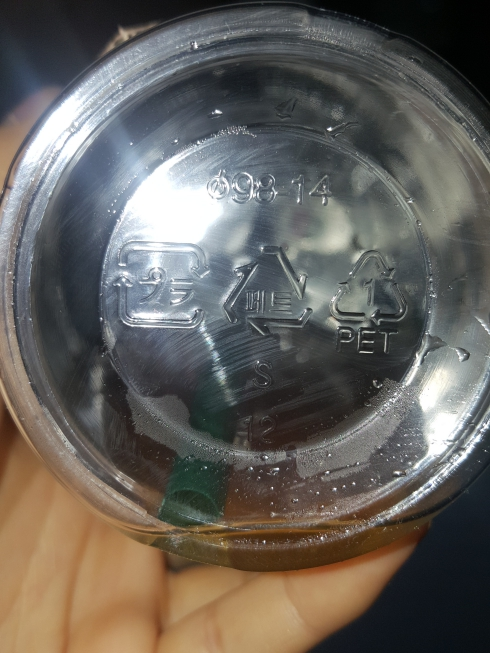recycle: (325, 239, 414, 360)
